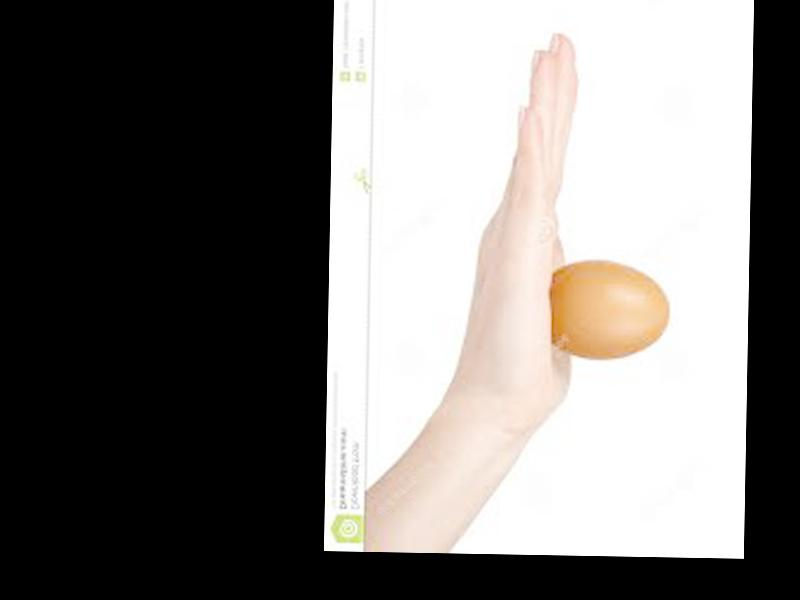Eggs: (545, 258, 670, 359)
